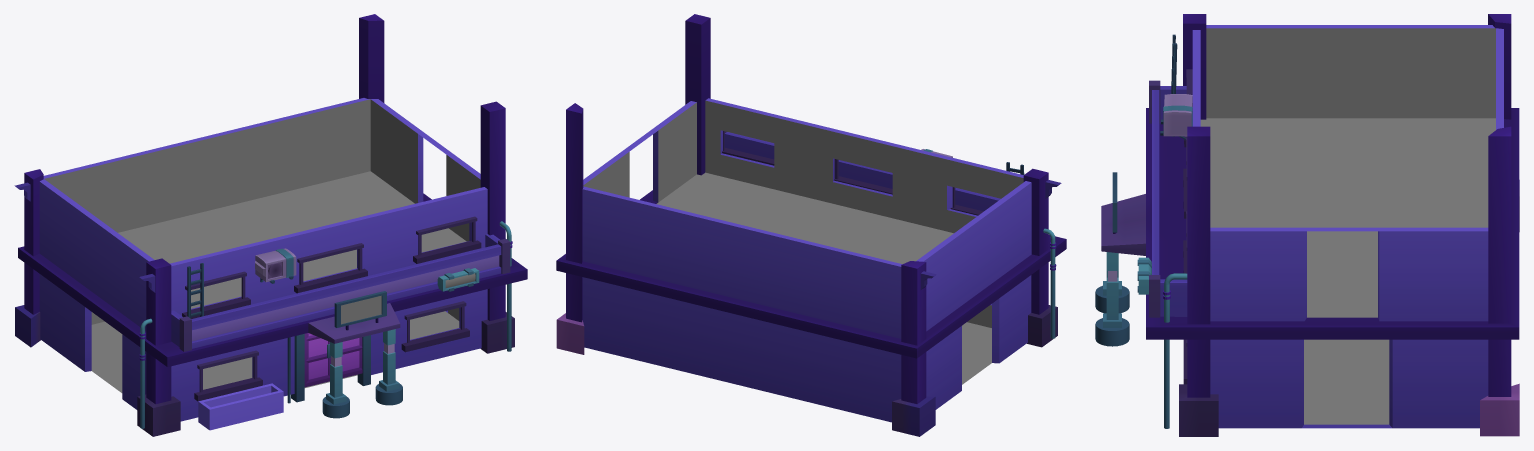
Rendered from scene_building_main_bottom.obj.
3 renders of one model, left to right at view 1: azimuth 30°, elevation 25°; view 2: azimuth 150°, elevation 25°; view 3: azimuth 270°, elevation 25°, orthographic. The views are drawn at different scales.
Parts seen in each view (by area): view 1: building_main_bottom; view 2: building_main_bottom; view 3: building_main_bottom.
Boxes of the visible parts, bbox=[...] form: building_main_bottom: bbox=[14, 14, 527, 436]; building_main_bottom: bbox=[556, 14, 1066, 436]; building_main_bottom: bbox=[1095, 14, 1519, 436].
Size of the model in its own units: 1646 by 1031 by 1305.
Materials: 2 (1 with a texture image).
